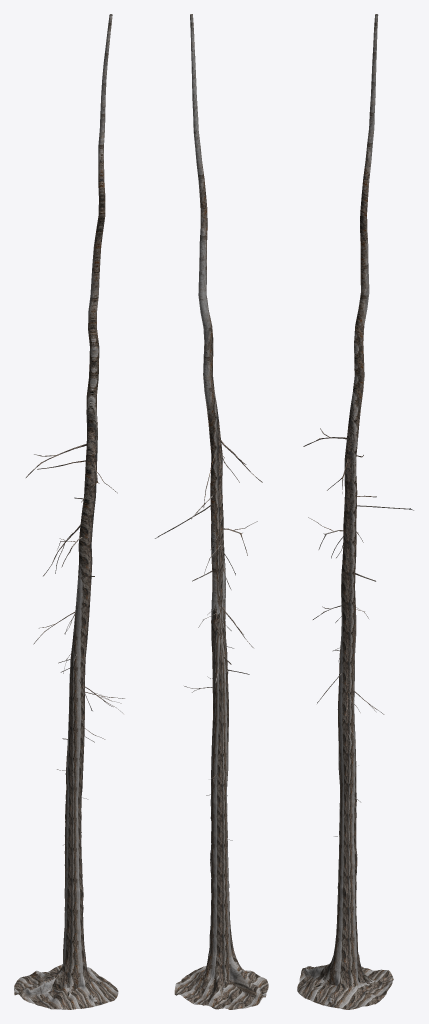
File: fir_tree_01_bare_v03.glb
The picture shows the model from 3 angles, left to right: view 1: azimuth 30°, elevation 25°; view 2: azimuth 150°, elevation 25°; view 3: azimuth 330°, elevation 25°; orthographic projection. The views are drawn at different scales.
Visible parts, largest first — view 1: fir_tree_01_c_LOD0; view 2: fir_tree_01_c_LOD0; view 3: fir_tree_01_c_LOD0.
Part boxes in pixels (x1,y1,x2,y2): fir_tree_01_c_LOD0: (14, 14, 124, 1009); fir_tree_01_c_LOD0: (155, 14, 268, 1009); fir_tree_01_c_LOD0: (297, 14, 413, 1009).
Bounding box in the file's own units: 1.35 × 13.32 × 1.36.
2 materials, 2 textured.
